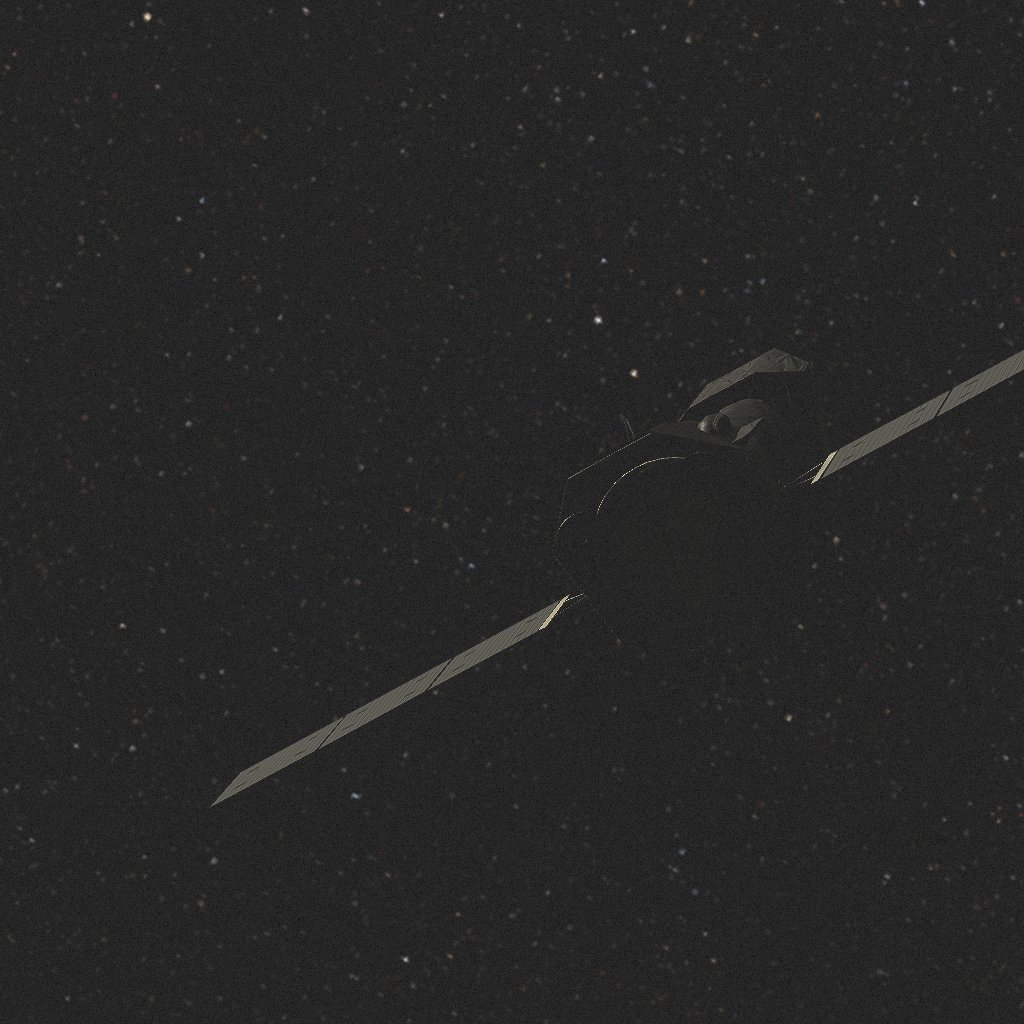xmm_newton: (209, 348, 1024, 810)
